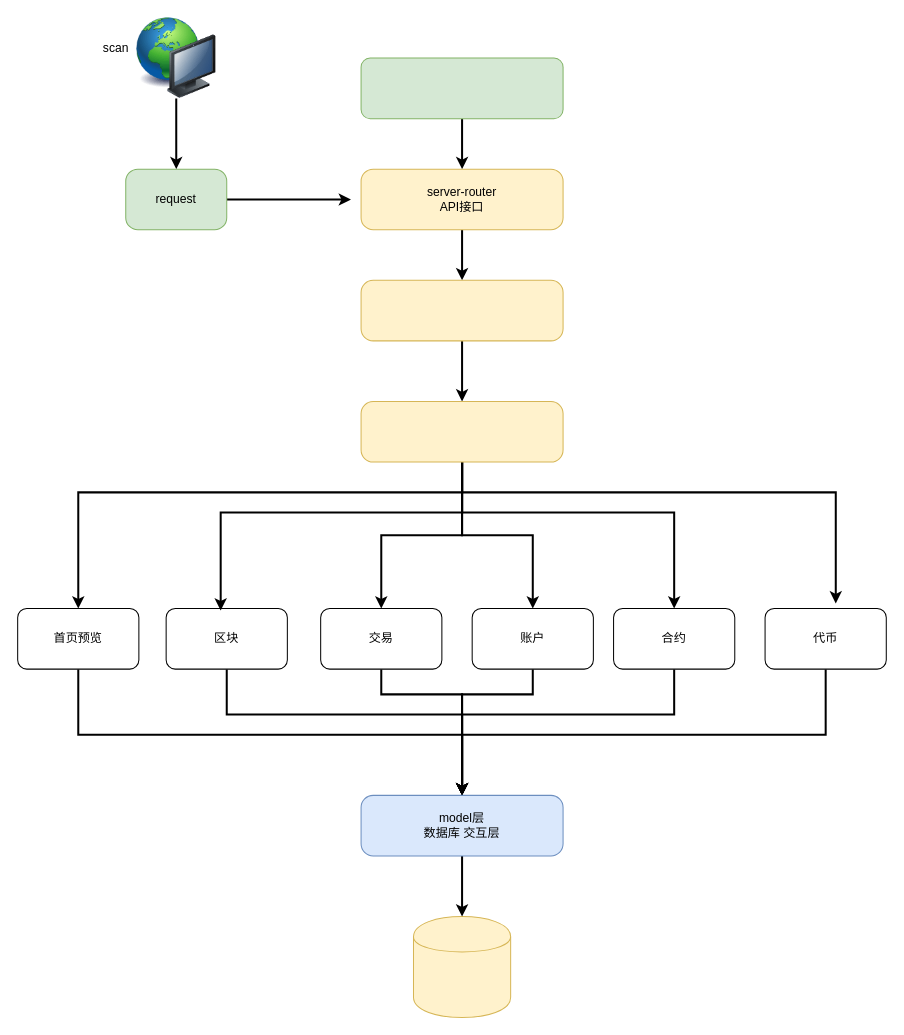
The diagram is 904 pixels wide and 1035 high, and some of its shapes have lost their labels. The shapes that lost their labels are listed below. From the top down, each one's centre as x and y in pixels, then its label:
[461,88]: bcbscan-web server
[461,310]: controller 控制层
[461,431]: service 业务层
[461,967]: 数据库
